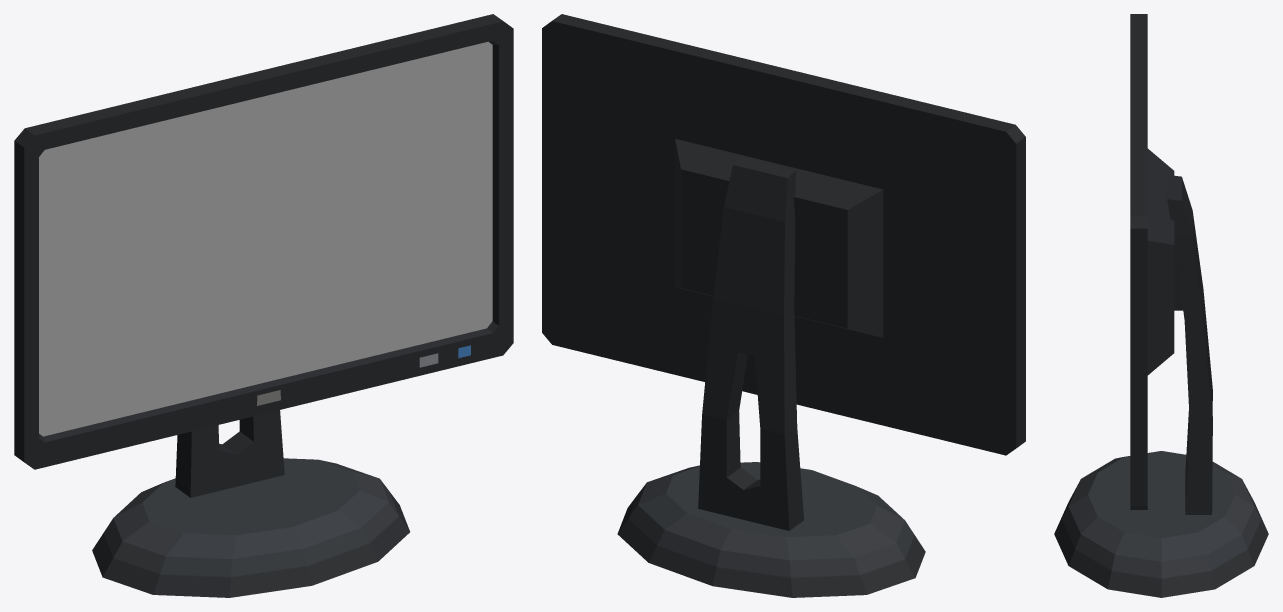
The model's file is SM_Prop_Monitor_01.fbx.
The picture shows the model from 3 angles, left to right: view 1: azimuth 30°, elevation 25°; view 2: azimuth 150°, elevation 25°; view 3: azimuth 270°, elevation 25°; orthographic projection. The views are drawn at different scales.
Visible parts, largest first — view 1: SM_Prop_Monitor_01; view 2: SM_Prop_Monitor_01; view 3: SM_Prop_Monitor_01.
Part boxes in pixels (bbox=[...]): SM_Prop_Monitor_01: bbox=[14, 14, 513, 597]; SM_Prop_Monitor_01: bbox=[542, 14, 1025, 597]; SM_Prop_Monitor_01: bbox=[1054, 14, 1268, 597].
Bounding box in the file's own units: 70.47 × 65.49 × 30.39.
